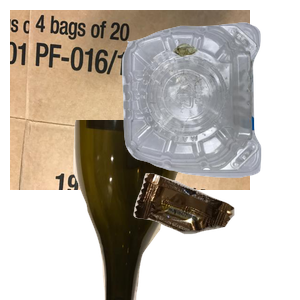cardboard: (10, 10, 250, 190)
glass: (71, 120, 254, 300)
plastic: (119, 20, 300, 190)
trash: (131, 171, 300, 300)
